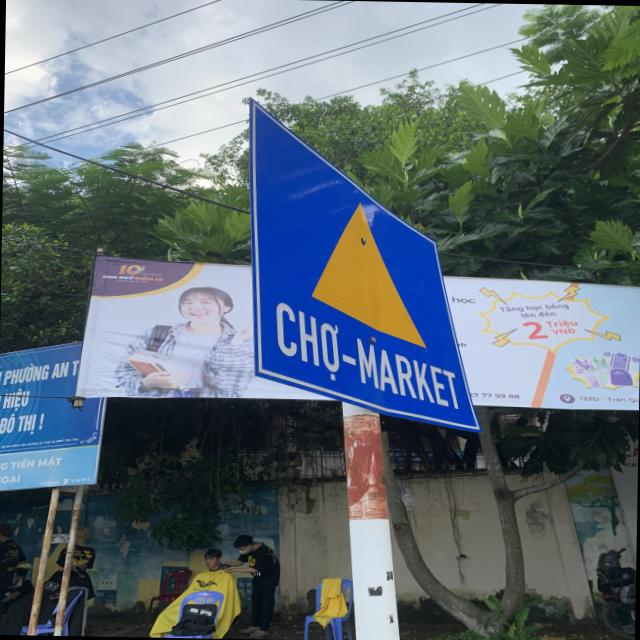Cho_Quay_Xe: (250, 95, 490, 428)
